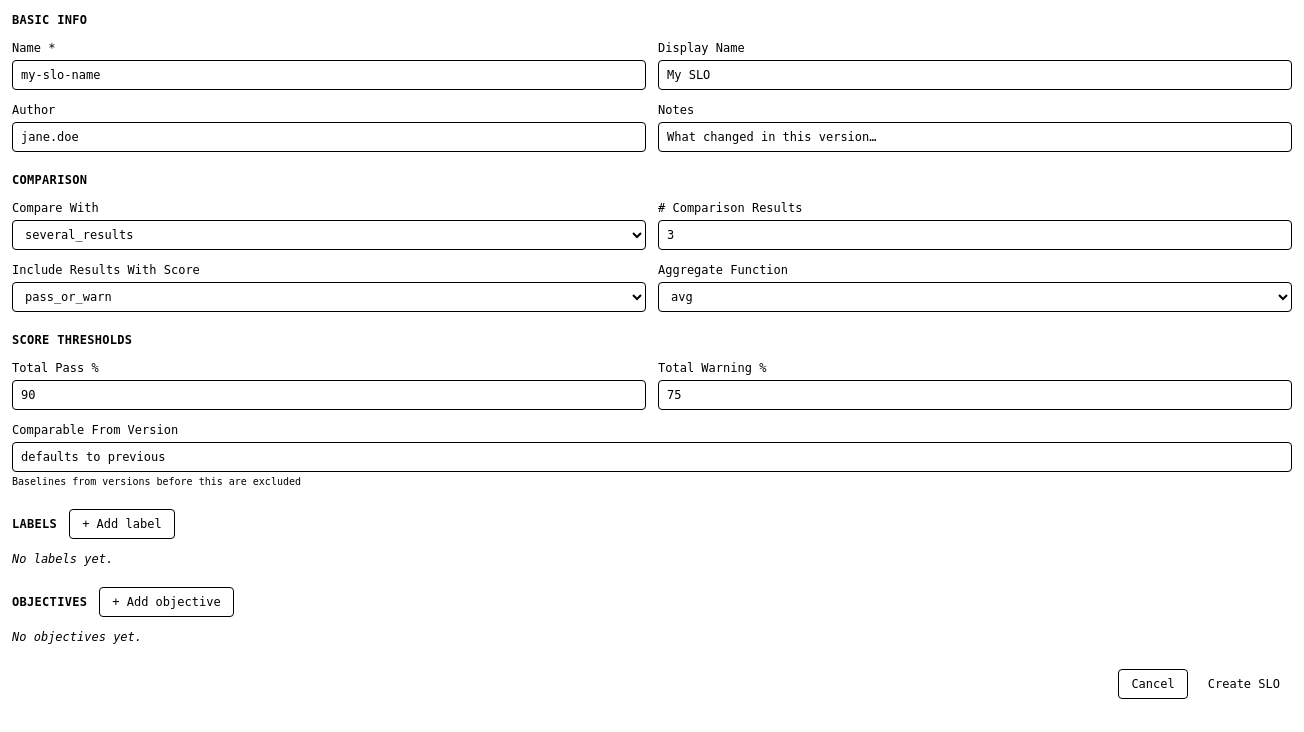
SloCreateForm › shows validation error when name is empty on submit
Click the button "Create SLO".
click(1244, 684)  # box [1196,669,1292,699]
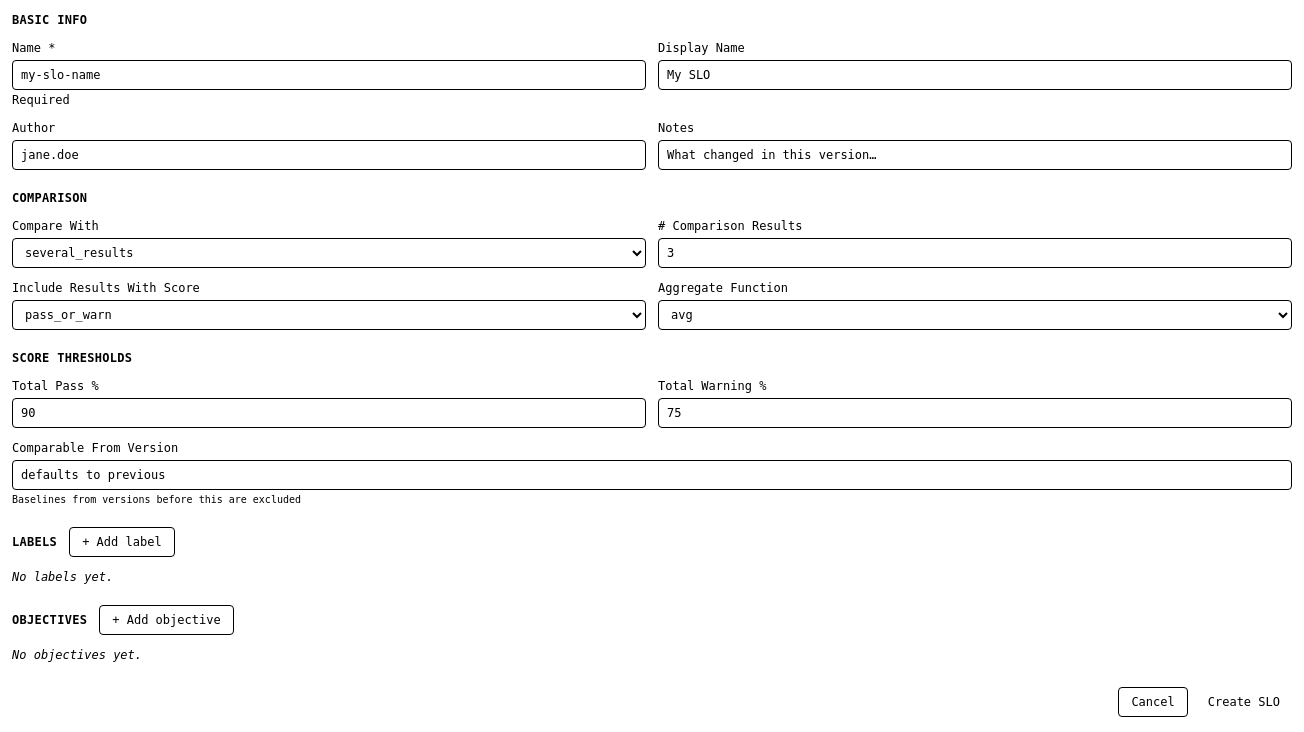
Result: the text "Required" is shown at [12,93,70,107]
